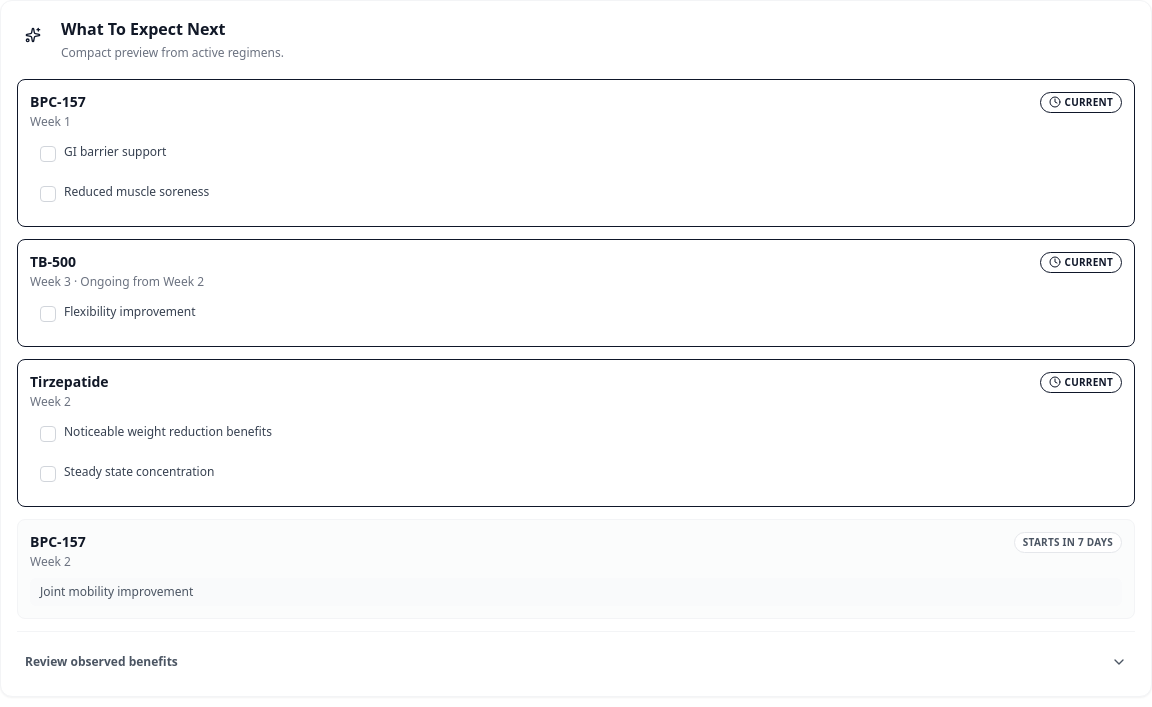
Test case: BenefitsTimeline Component UI/UX with JSDOM › rolls back state and alerts user when server action throws an error
This screenshot has width=1152, height=707.
Click the button "GI barrier support" at [115, 151], box [30, 138, 1122, 174]
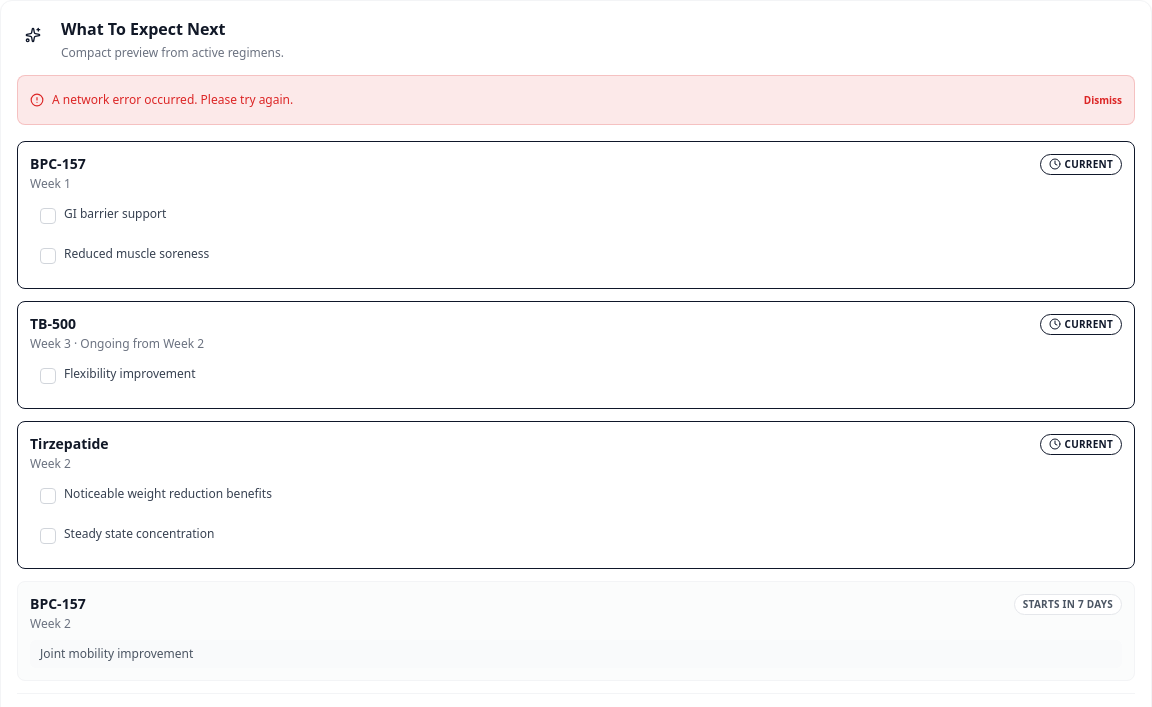
Check: the text "A network error occurred. Please try again." is shown, box [52, 92, 293, 108]
